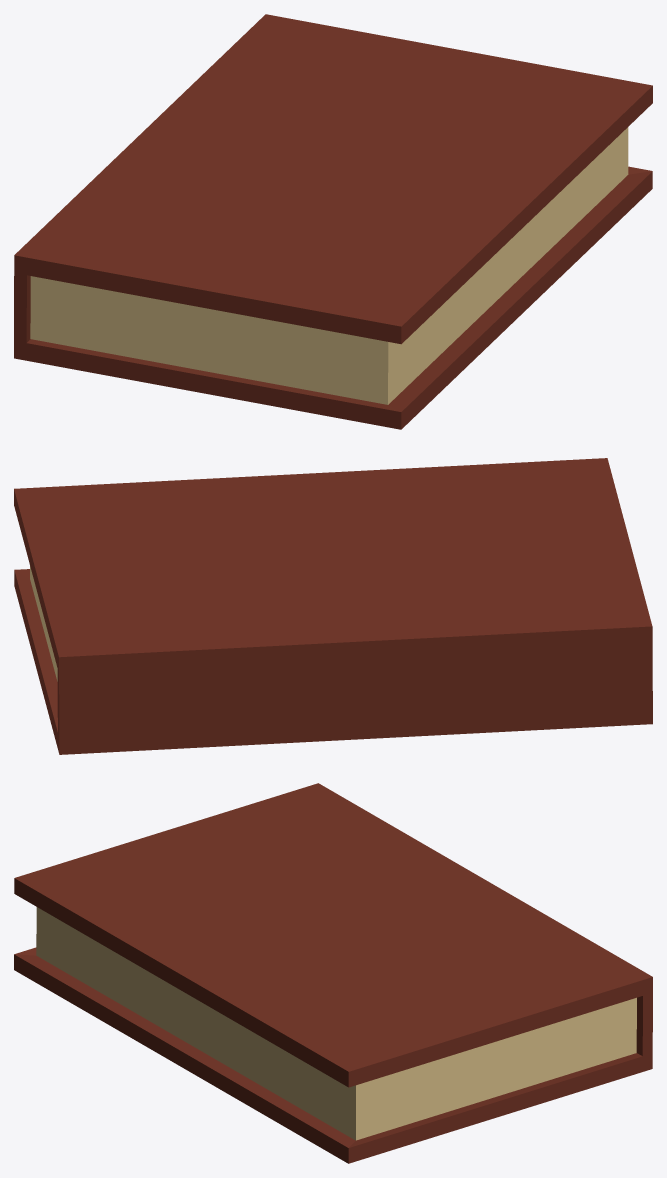
The model's file is Book1_044.fbx.
3 views of the same model, one above another, from view 1: azimuth 30°, elevation 25°; view 2: azimuth 150°, elevation 25°; view 3: azimuth 270°, elevation 25° (orthographic). The views are drawn at different scales.
Parts seen in each view (by area): view 1: Book1.044; view 2: Book1.044; view 3: Book1.044.
Part boxes in pixels (x1,y1,x2,y2): Book1.044: [14, 14, 652, 429]; Book1.044: [14, 458, 652, 754]; Book1.044: [14, 783, 652, 1163].
Bounding box in the file's own units: 46.4 × 7.13 × 43.73.
